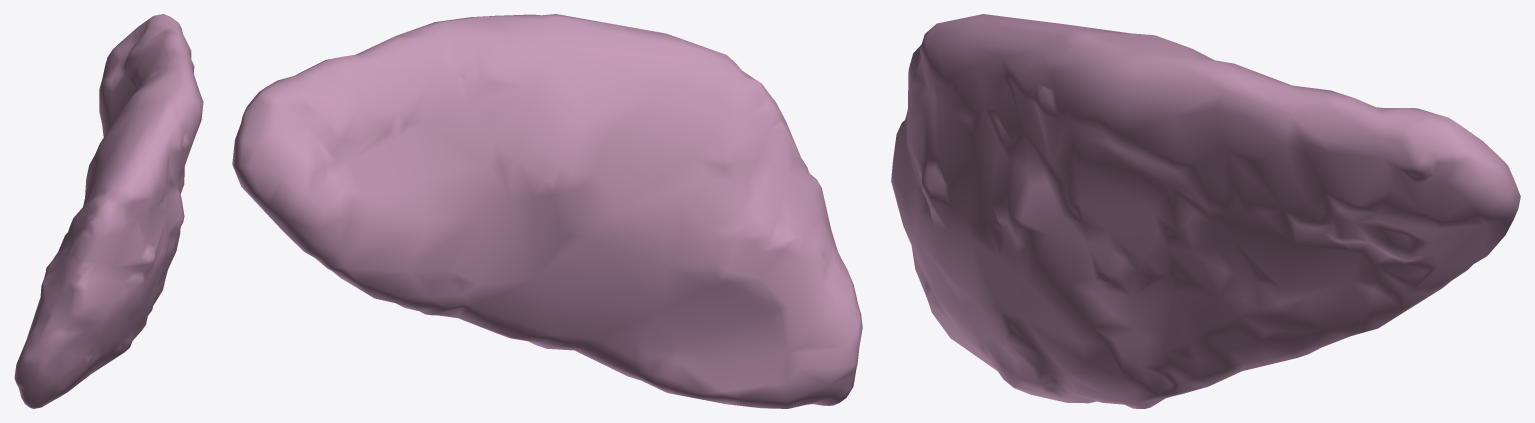
The picture shows the model from 3 angles, left to right: view 1: azimuth 30°, elevation 25°; view 2: azimuth 150°, elevation 25°; view 3: azimuth 270°, elevation 25°; orthographic projection. The views are drawn at different scales.
Visible parts, largest first — view 1: 左侧泪腺; view 2: 左侧泪腺; view 3: 左侧泪腺.
Boxes of the visible parts, left/top/right/bottom form: 左侧泪腺: left=14, top=14, right=203, bottom=408; 左侧泪腺: left=232, top=14, right=862, bottom=408; 左侧泪腺: left=891, top=14, right=1520, bottom=408.
Bounding box in the file's own units: 0.0265 × 0.0223 × 0.0271.
